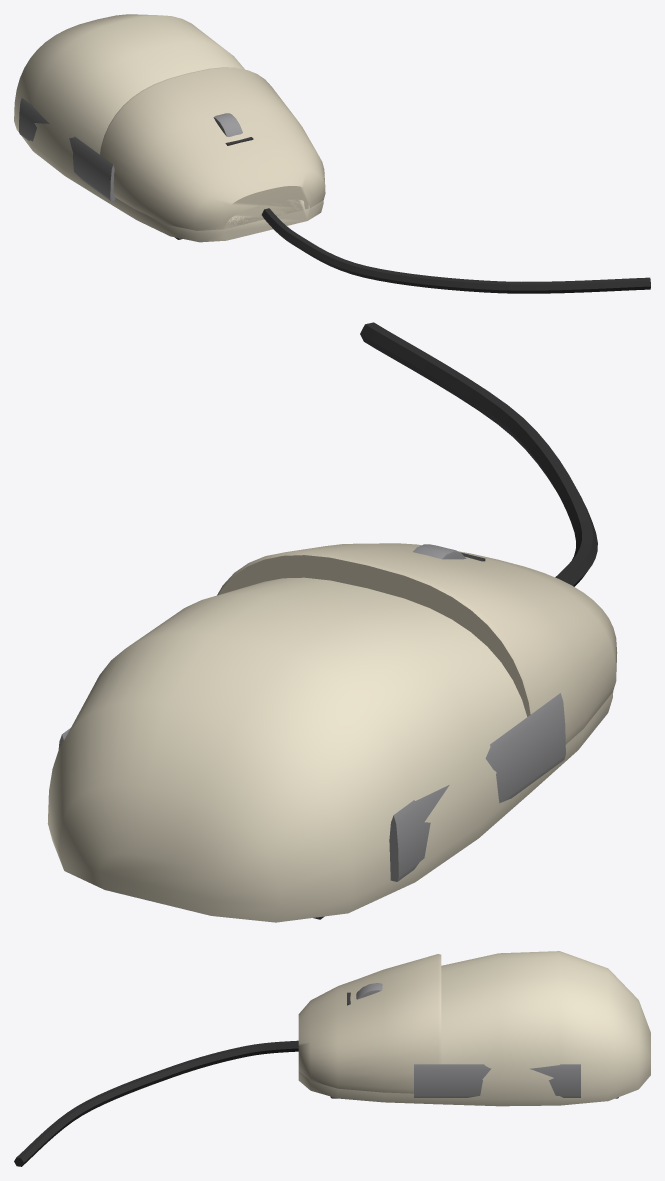
Rendered from electronics_mouse.fbx.
3 renders of one model, top to bottom at view 1: azimuth 30°, elevation 25°; view 2: azimuth 150°, elevation 25°; view 3: azimuth 270°, elevation 25°, orthographic. The views are drawn at different scales.
Parts seen in each view (by area): view 1: electronics_mouse; view 2: electronics_mouse; view 3: electronics_mouse.
Part boxes in pixels (left/top/right/bottom): electronics_mouse: left=14, top=14, right=650, bottom=293; electronics_mouse: left=47, top=322, right=617, bottom=922; electronics_mouse: left=14, top=951, right=650, bottom=1166.
Bounding box in the file's own units: 0.1138 × 0.037 × 0.2096.
